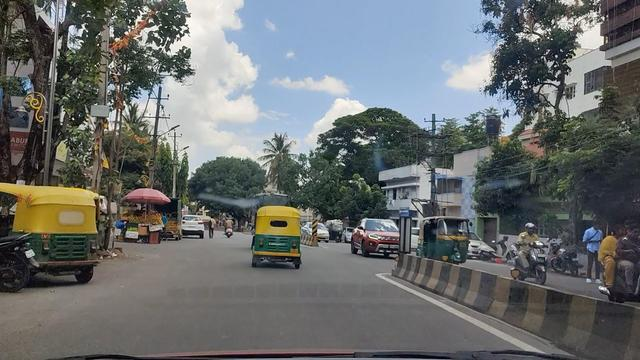LMV: (256, 201, 298, 267)
